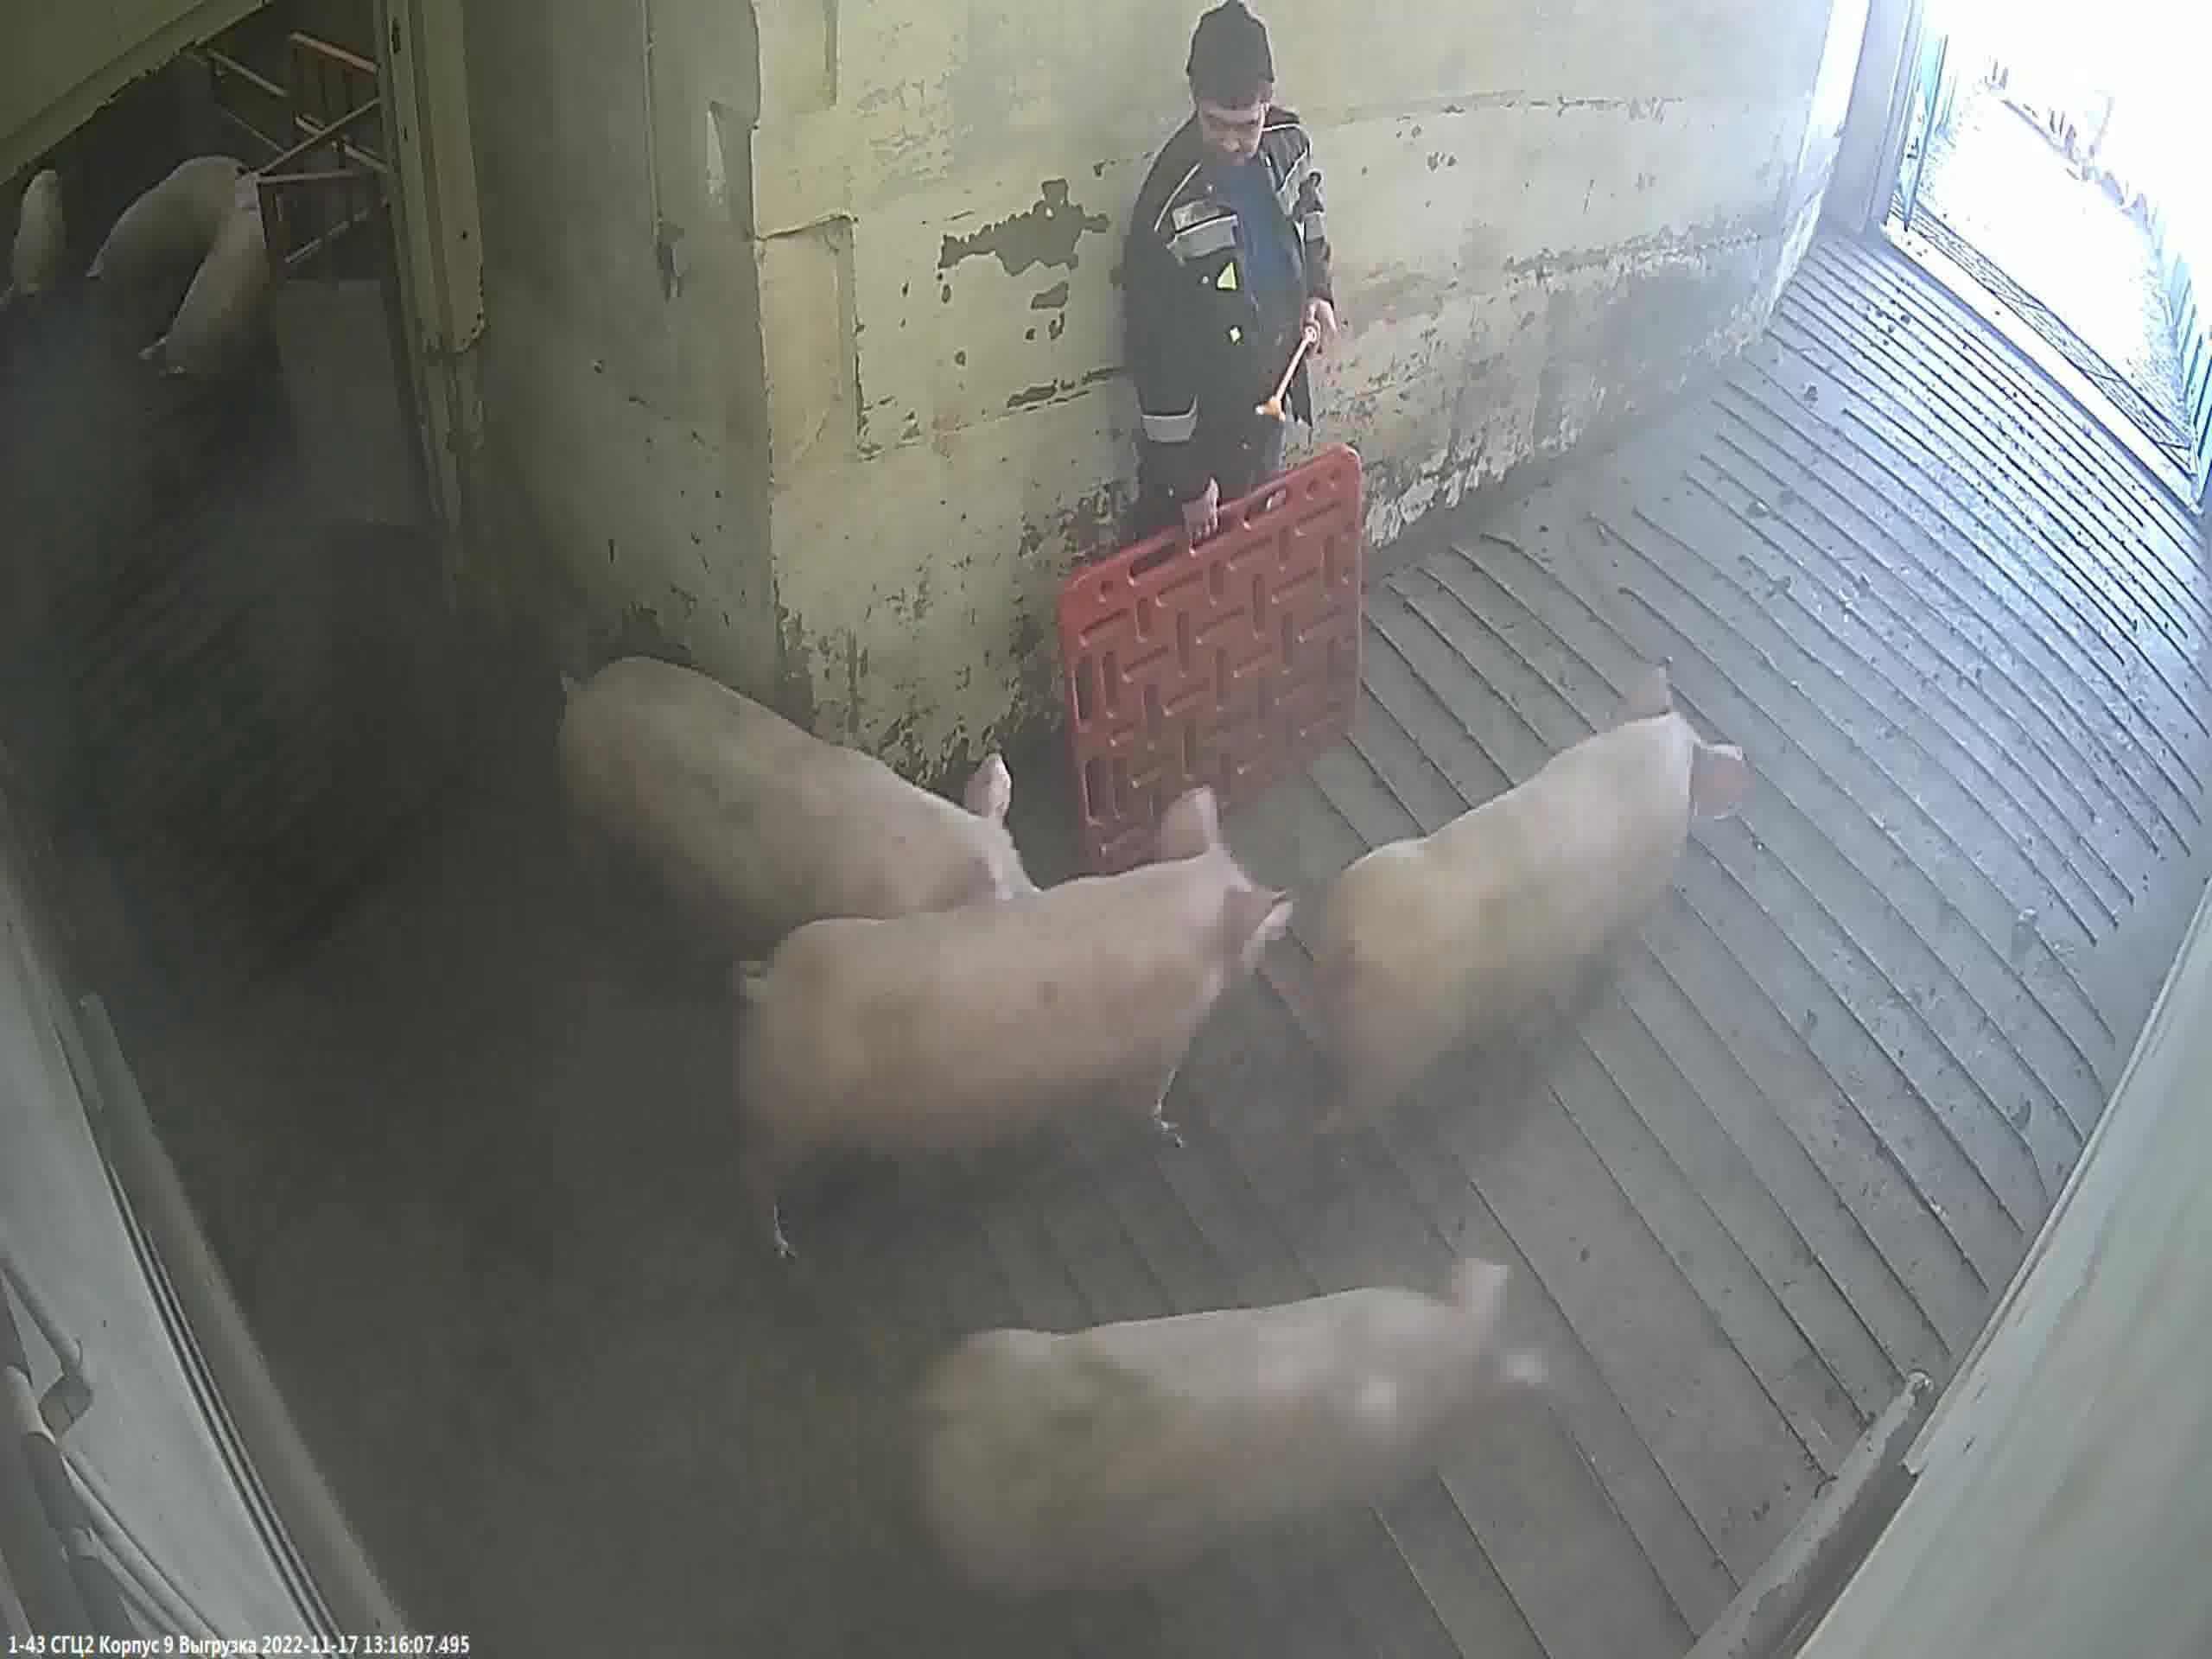Pigs: (732, 840, 1296, 1283), (1268, 713, 1723, 1192), (918, 1265, 1531, 1608), (554, 657, 1038, 1021), (131, 186, 273, 437), (87, 157, 240, 347), (0, 178, 75, 326)
